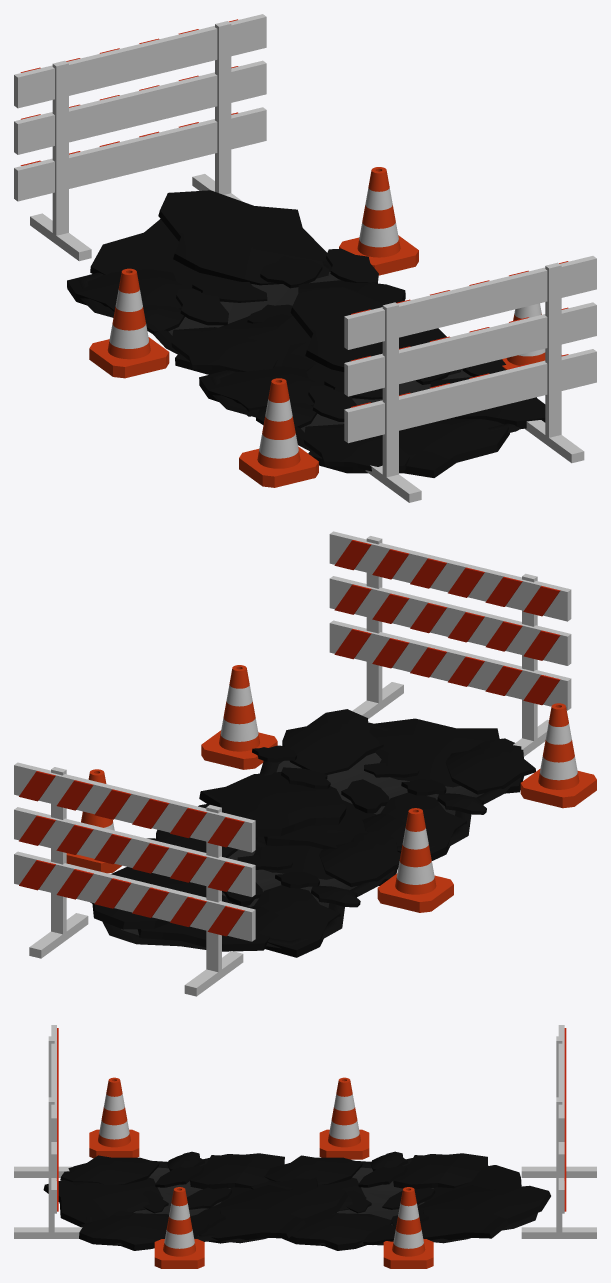
File: ConstructionZone.fbx
3 renders of one model, top to bottom at view 1: azimuth 30°, elevation 25°; view 2: azimuth 150°, elevation 25°; view 3: azimuth 270°, elevation 25°, orthographic. The views are drawn at different scales.
Visible parts, largest first — view 1: ConstructionHole, Barriar_1, Barriar_1 (2), Cone__3, Cone__4, Cone_1, Cone_2; view 2: ConstructionHole, Barriar_1 (2), Barriar_1, Cone__4, Cone__3, Cone_2, Cone_1; view 3: ConstructionHole, Barriar_1 (2), Barriar_1, Cone_2, Cone_1, Cone__3, Cone__4.
Boxes of the visible parts, bbox=[...] form: ConstructionHole: bbox=[67, 190, 545, 477]; Barriar_1: bbox=[344, 256, 596, 502]; Barriar_1 (2): bbox=[14, 14, 266, 261]; Cone__3: bbox=[89, 268, 169, 378]; Cone__4: bbox=[239, 378, 318, 487]; Cone_1: bbox=[339, 167, 418, 275]; Cone_2: bbox=[502, 303, 561, 369]; ConstructionHole: bbox=[90, 709, 535, 957]; Barriar_1 (2): bbox=[14, 762, 255, 996]; Barriar_1: bbox=[329, 531, 571, 756]; Cone__4: bbox=[520, 703, 596, 808]; Cone__3: bbox=[377, 808, 453, 912]; Cone_2: bbox=[201, 665, 277, 769]; Cone_1: bbox=[66, 769, 121, 873]; ConstructionHole: bbox=[43, 1151, 550, 1250]; Barriar_1 (2): bbox=[521, 1025, 596, 1238]; Barriar_1: bbox=[14, 1025, 82, 1238]; Cone_2: bbox=[154, 1187, 204, 1268]; Cone_1: bbox=[383, 1187, 433, 1268]; Cone__3: bbox=[319, 1077, 369, 1159]; Cone__4: bbox=[89, 1077, 139, 1158].
Size of the model in its own units: 313 by 158 by 590.
